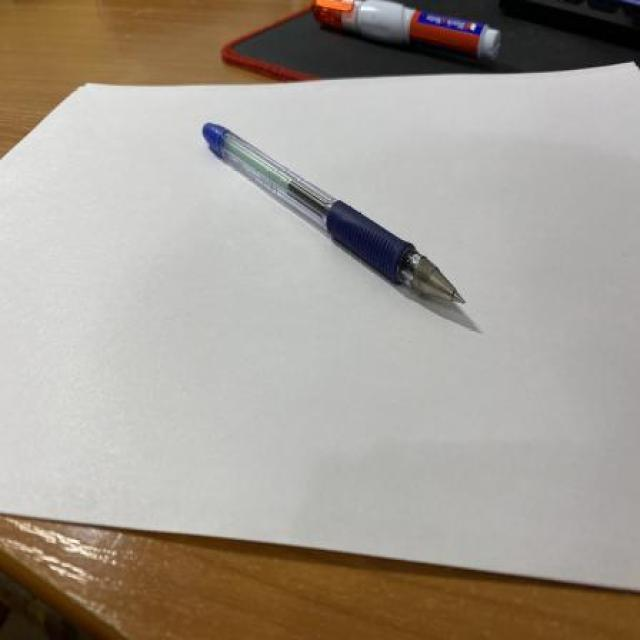pen: (199, 120, 471, 309)
